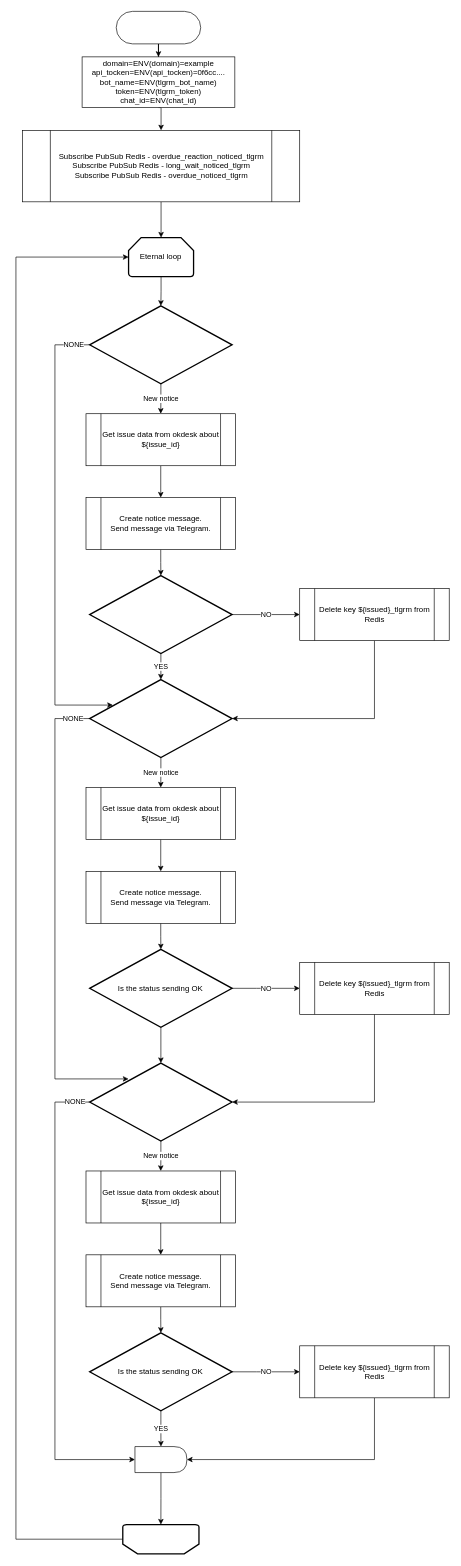
Image size: 461x1566. Some labels were removed from this diagram. Each missing label, with the box of its shape:
Begin: (116, 11, 201, 44)
Delay 1 ms: (134, 1446, 187, 1473)
Is the status sending = OK: (89, 575, 232, 654)
Next loop: (122, 1524, 199, 1554)
Read from long_wait_noticed_tlgrm: (89, 679, 232, 758)
Read from overdue_noticed_tlgrm: (89, 1062, 232, 1141)
Read from overdue_reaction_noticed_tlgrm: (89, 305, 232, 384)
